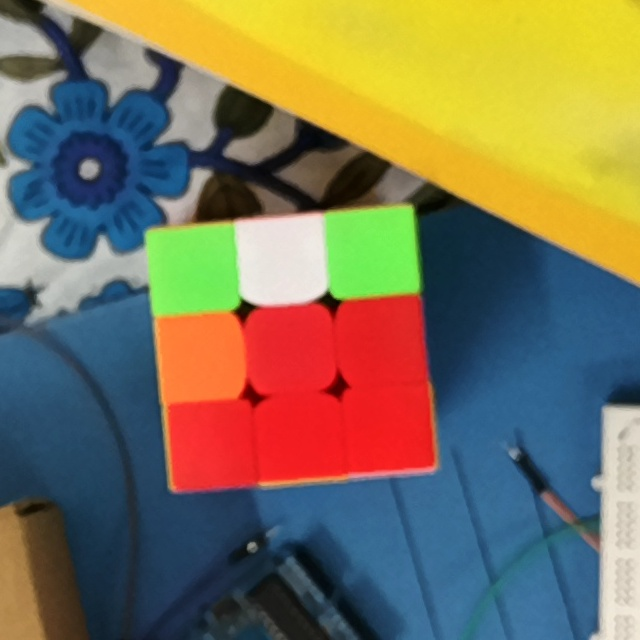tile: (334, 215, 411, 287), (156, 232, 231, 304), (175, 407, 247, 480), (353, 394, 426, 465), (348, 304, 418, 376), (253, 316, 323, 387), (243, 224, 316, 291), (264, 402, 335, 470), (170, 320, 236, 392)
